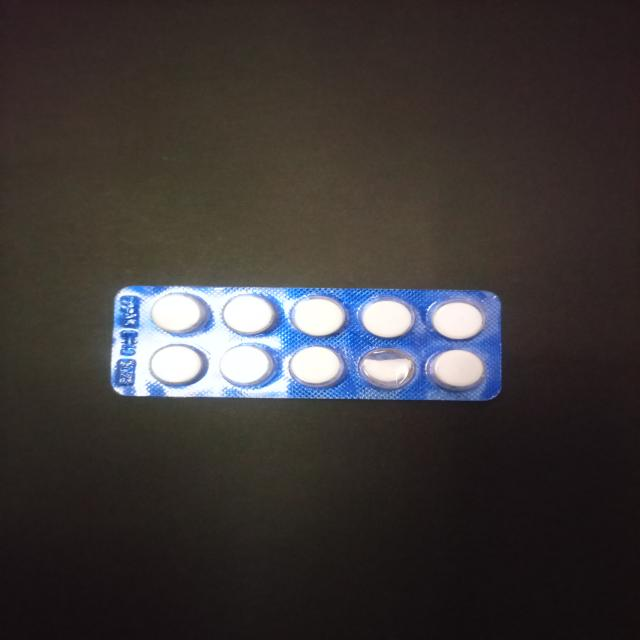defect: (353, 345, 420, 392)
